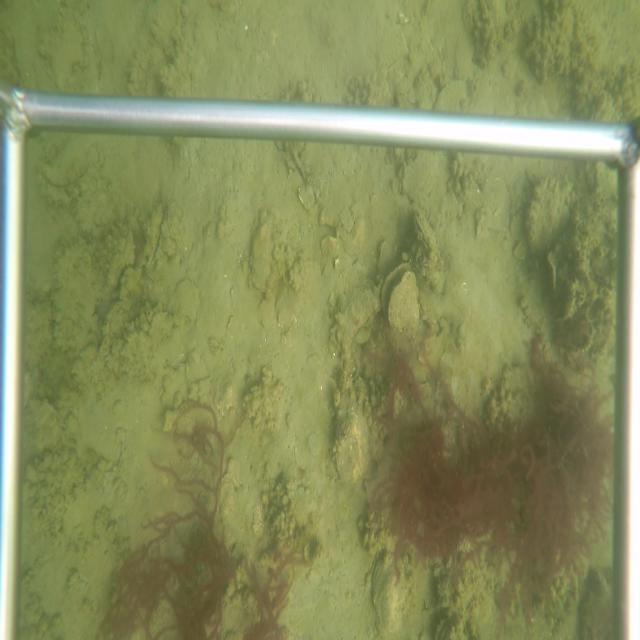Oyster-Closed: (410, 203, 443, 264), (145, 198, 168, 273)
Oyster-Indeterminate: (371, 547, 415, 636), (249, 218, 275, 296)
Oyster-Open: (379, 260, 419, 335)
